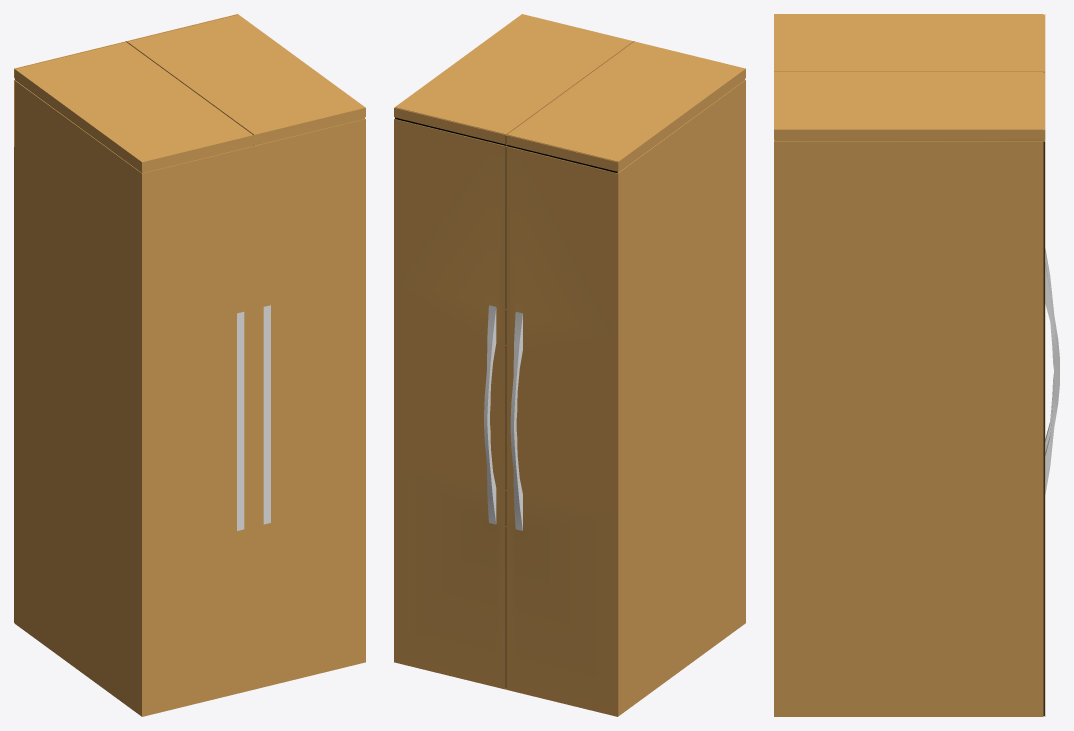
The model's file is placargrande.fbx.
3 renders of one model, left to right at view 1: azimuth 30°, elevation 25°; view 2: azimuth 150°, elevation 25°; view 3: azimuth 270°, elevation 25°, orthographic. The views are drawn at different scales.
Parts seen in each view (by area): view 1: Plane; view 2: Plane; view 3: Plane.
Boxes of the visible parts, x1,y1,x2,y2 form: Plane: (14,14,365,716); Plane: (394,14,745,716); Plane: (774,14,1059,716).
Size of the model in its own units: 200 by 474 by 209.
